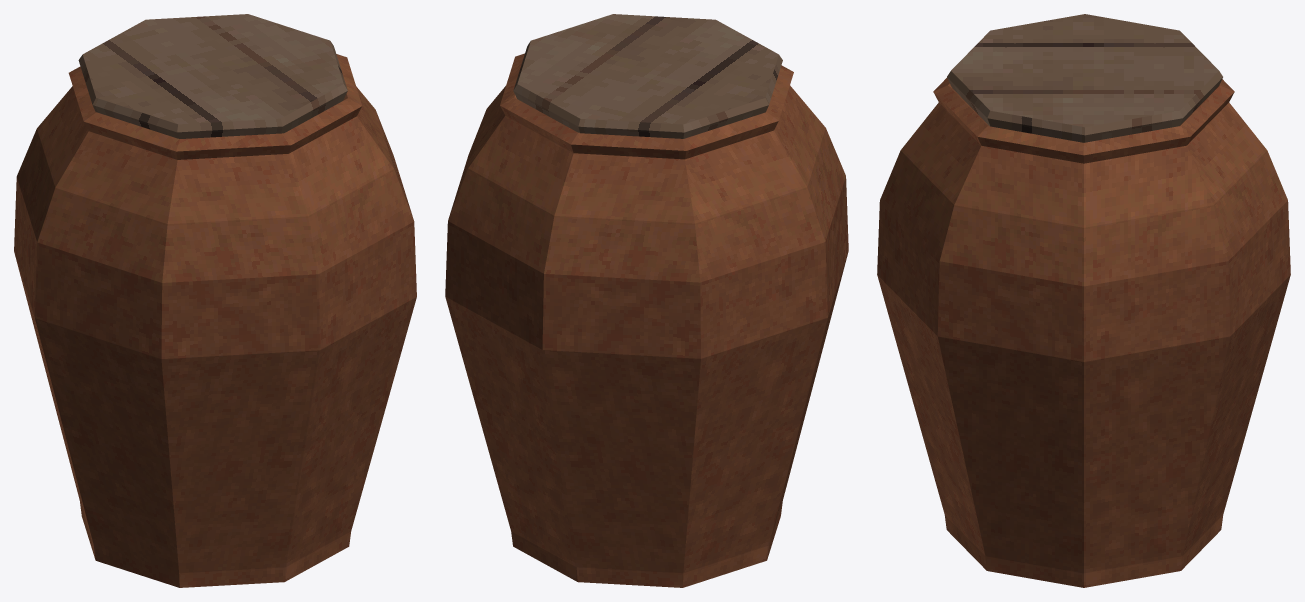
The model's file is terracotta_vase_small.glb.
3 views of the same model, side by side, from view 1: azimuth 30°, elevation 25°; view 2: azimuth 150°, elevation 25°; view 3: azimuth 270°, elevation 25° (orthographic).
Visible parts, largest first — view 1: terracotta_vase_small; view 2: terracotta_vase_small; view 3: terracotta_vase_small.
Boxes of the visible parts, x1=… form: terracotta_vase_small: x1=14, y1=14, x2=416, y2=587; terracotta_vase_small: x1=445, y1=14, x2=848, y2=587; terracotta_vase_small: x1=877, y1=14, x2=1290, y2=587.
Bounding box in the file's own units: 0.6589 × 0.8056 × 0.6589.
2 materials, 2 textured.
